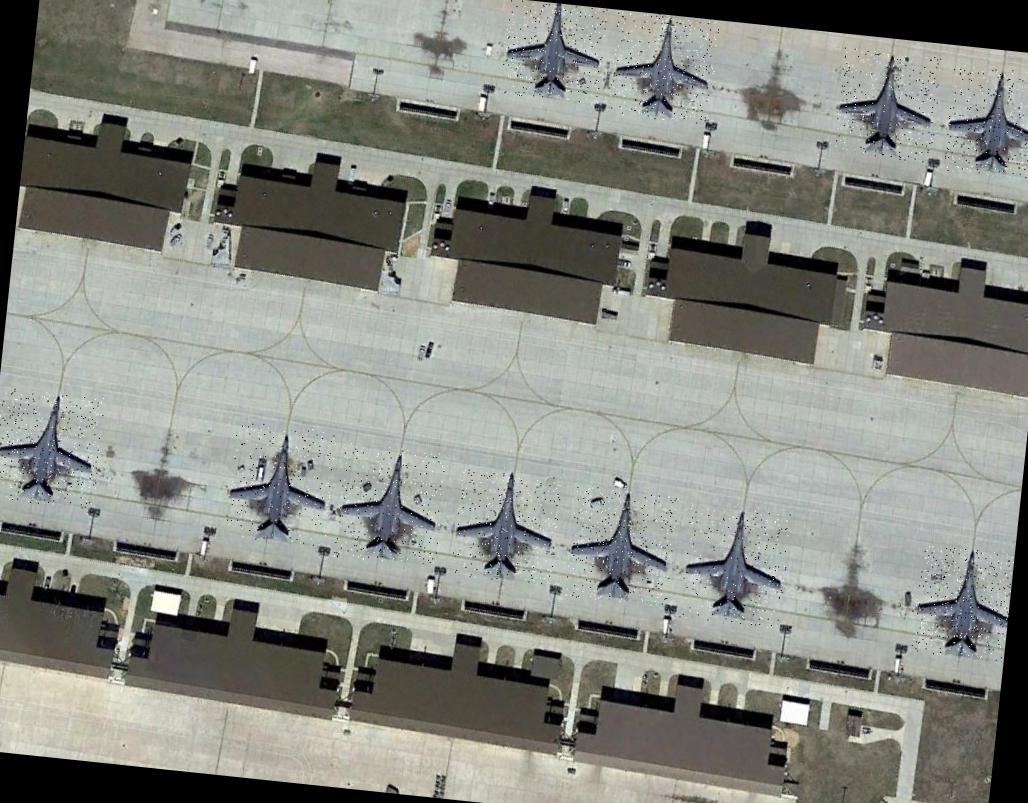A10: (223, 420, 337, 546), (332, 442, 447, 566), (678, 503, 792, 628), (565, 484, 679, 606), (450, 466, 562, 585), (608, 9, 720, 124), (0, 386, 105, 508), (834, 46, 943, 162), (911, 544, 1015, 660), (500, 0, 607, 103), (943, 63, 1028, 179)
